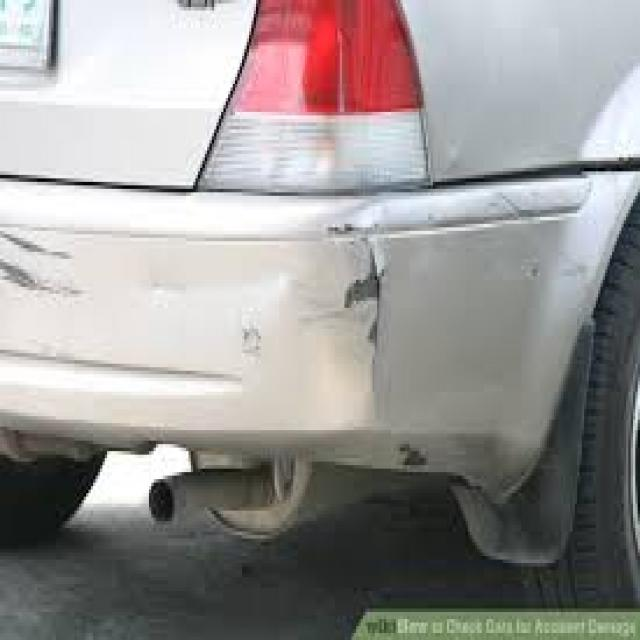minor: (326, 217, 397, 358), (5, 226, 72, 320)
